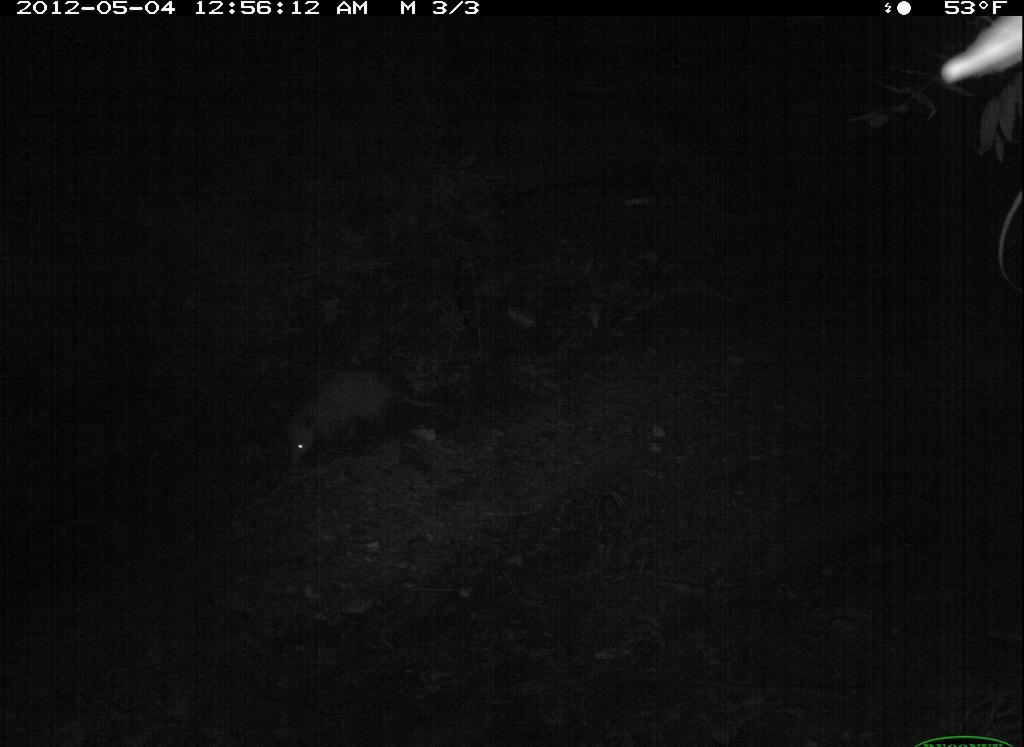opossum: (276, 354, 463, 468)
